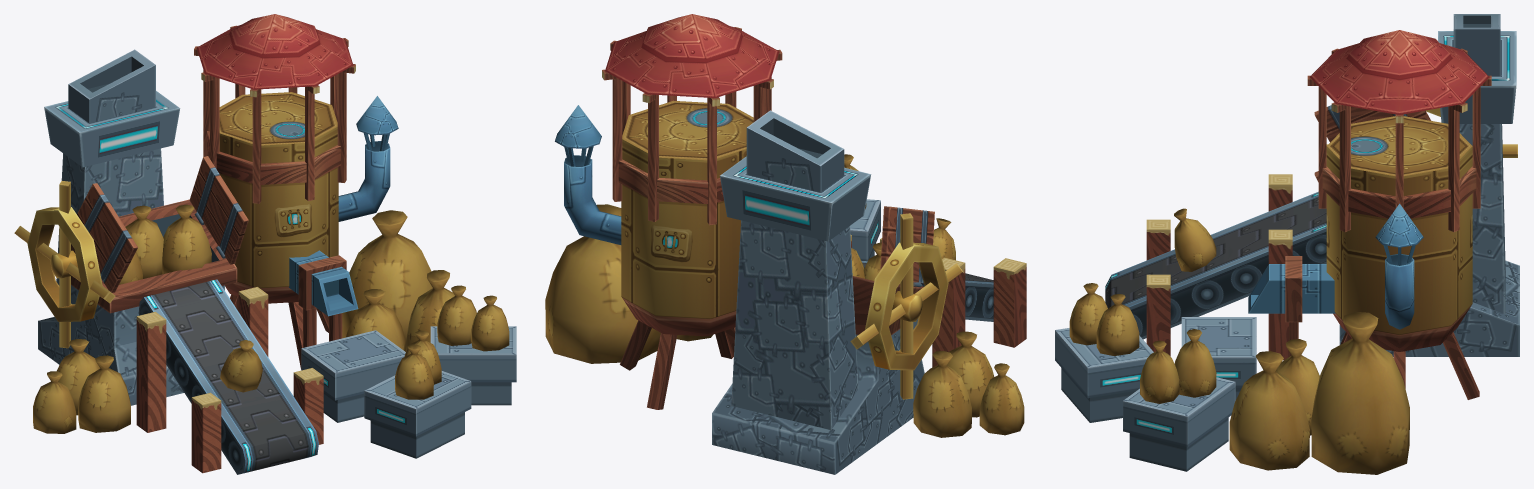
The model's file is lsjgc.FBX.
The picture shows the model from 3 angles, left to right: view 1: azimuth 30°, elevation 25°; view 2: azimuth 150°, elevation 25°; view 3: azimuth 270°, elevation 25°; orthographic projection. The views are drawn at different scales.
Parts seen in each view (by area): view 1: lsjgc; view 2: lsjgc; view 3: lsjgc.
Boxes of the visible parts, bbox=[...] form: lsjgc: bbox=[14, 14, 516, 474]; lsjgc: bbox=[545, 14, 1026, 474]; lsjgc: bbox=[1055, 14, 1519, 474].
Bounding box in the file's own units: 93.02 × 72.4 × 81.58.
